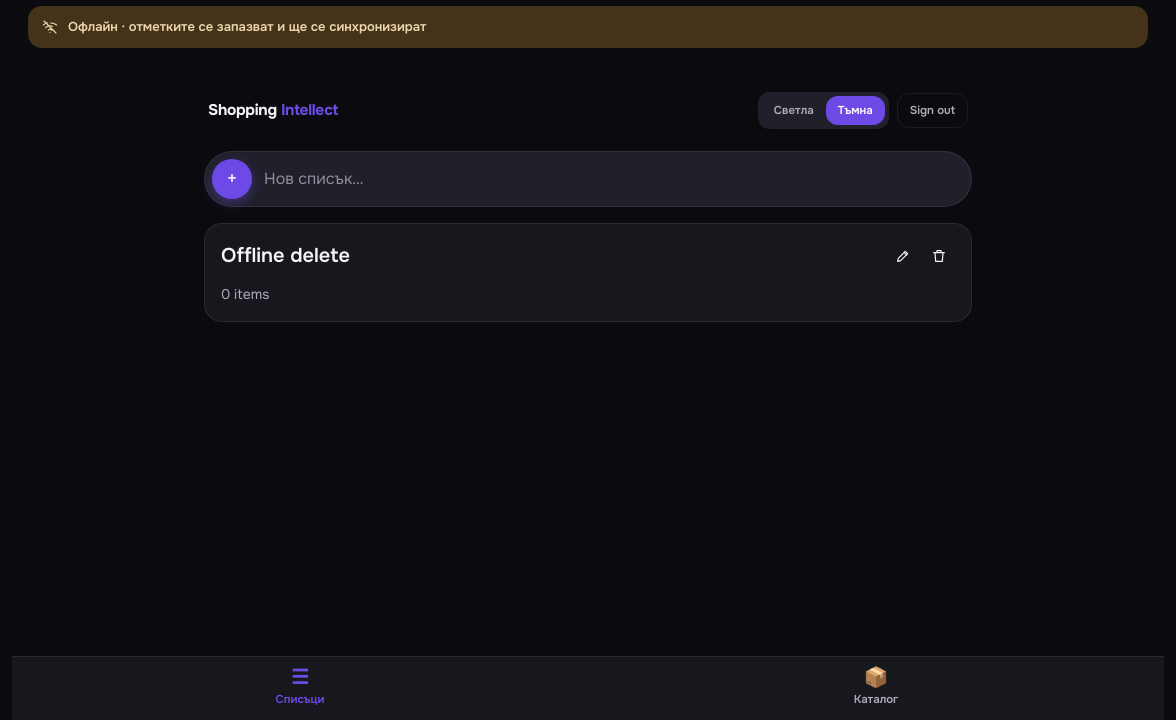
Test: deleting a list while offline removes it immediately and it stays deleted once back online
Check: the text "Offline delete" is shown, box [221, 243, 350, 268]
Click the button named "Изтрий Offline delete" at [939, 256], box [923, 240, 955, 272]
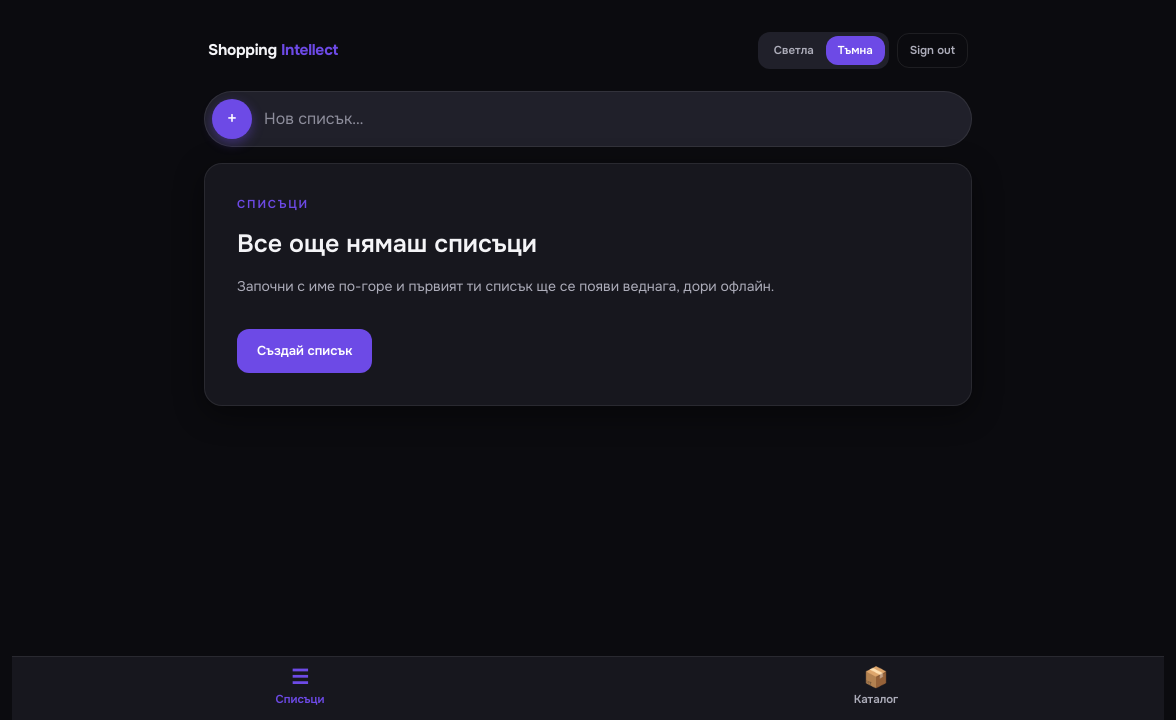
Check: the text "Offline delete" is gone
